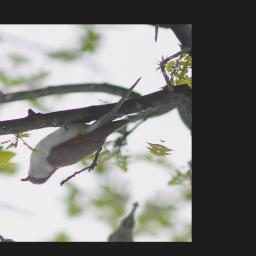Cuckoo: (19, 53, 150, 204)
